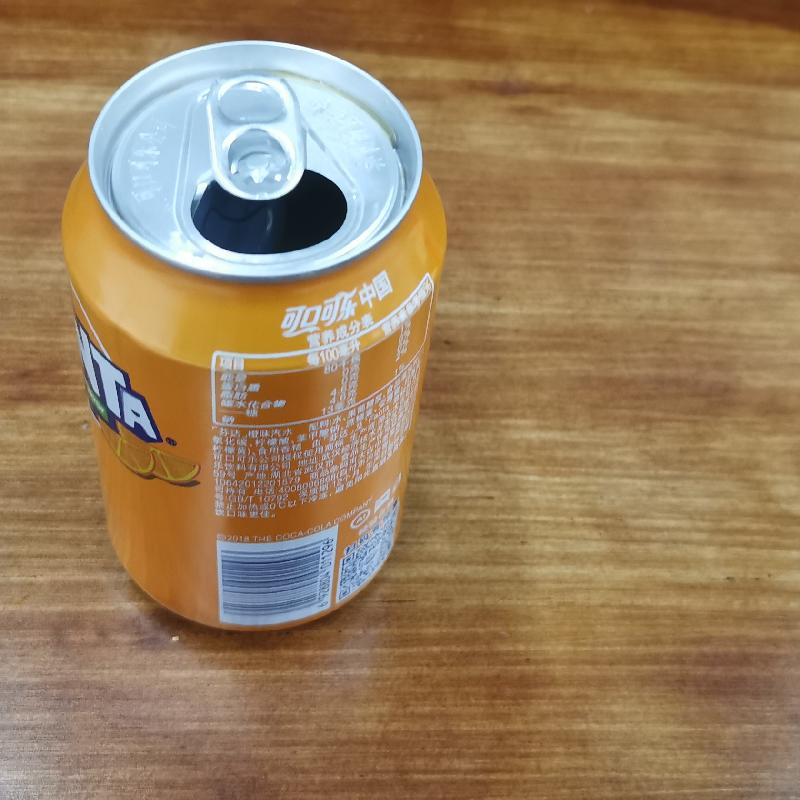cans: (56, 32, 458, 642)
